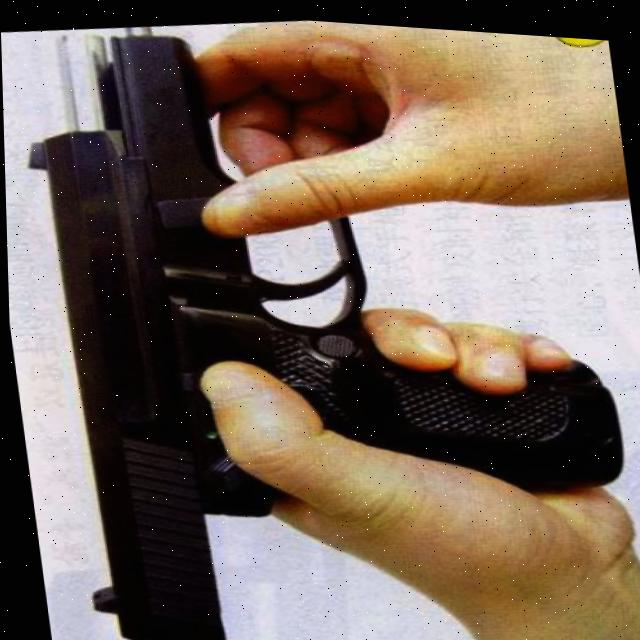pistol: (10, 1, 640, 640)
